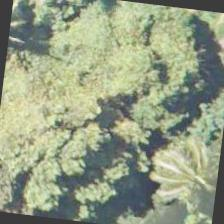Kelapa_Sawit: (131, 131, 222, 223)
